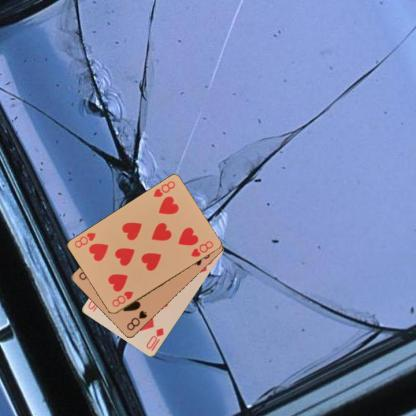10d: (144, 325, 166, 351)
8h: (150, 178, 176, 198), (109, 289, 135, 308)
8s: (124, 308, 149, 332)
